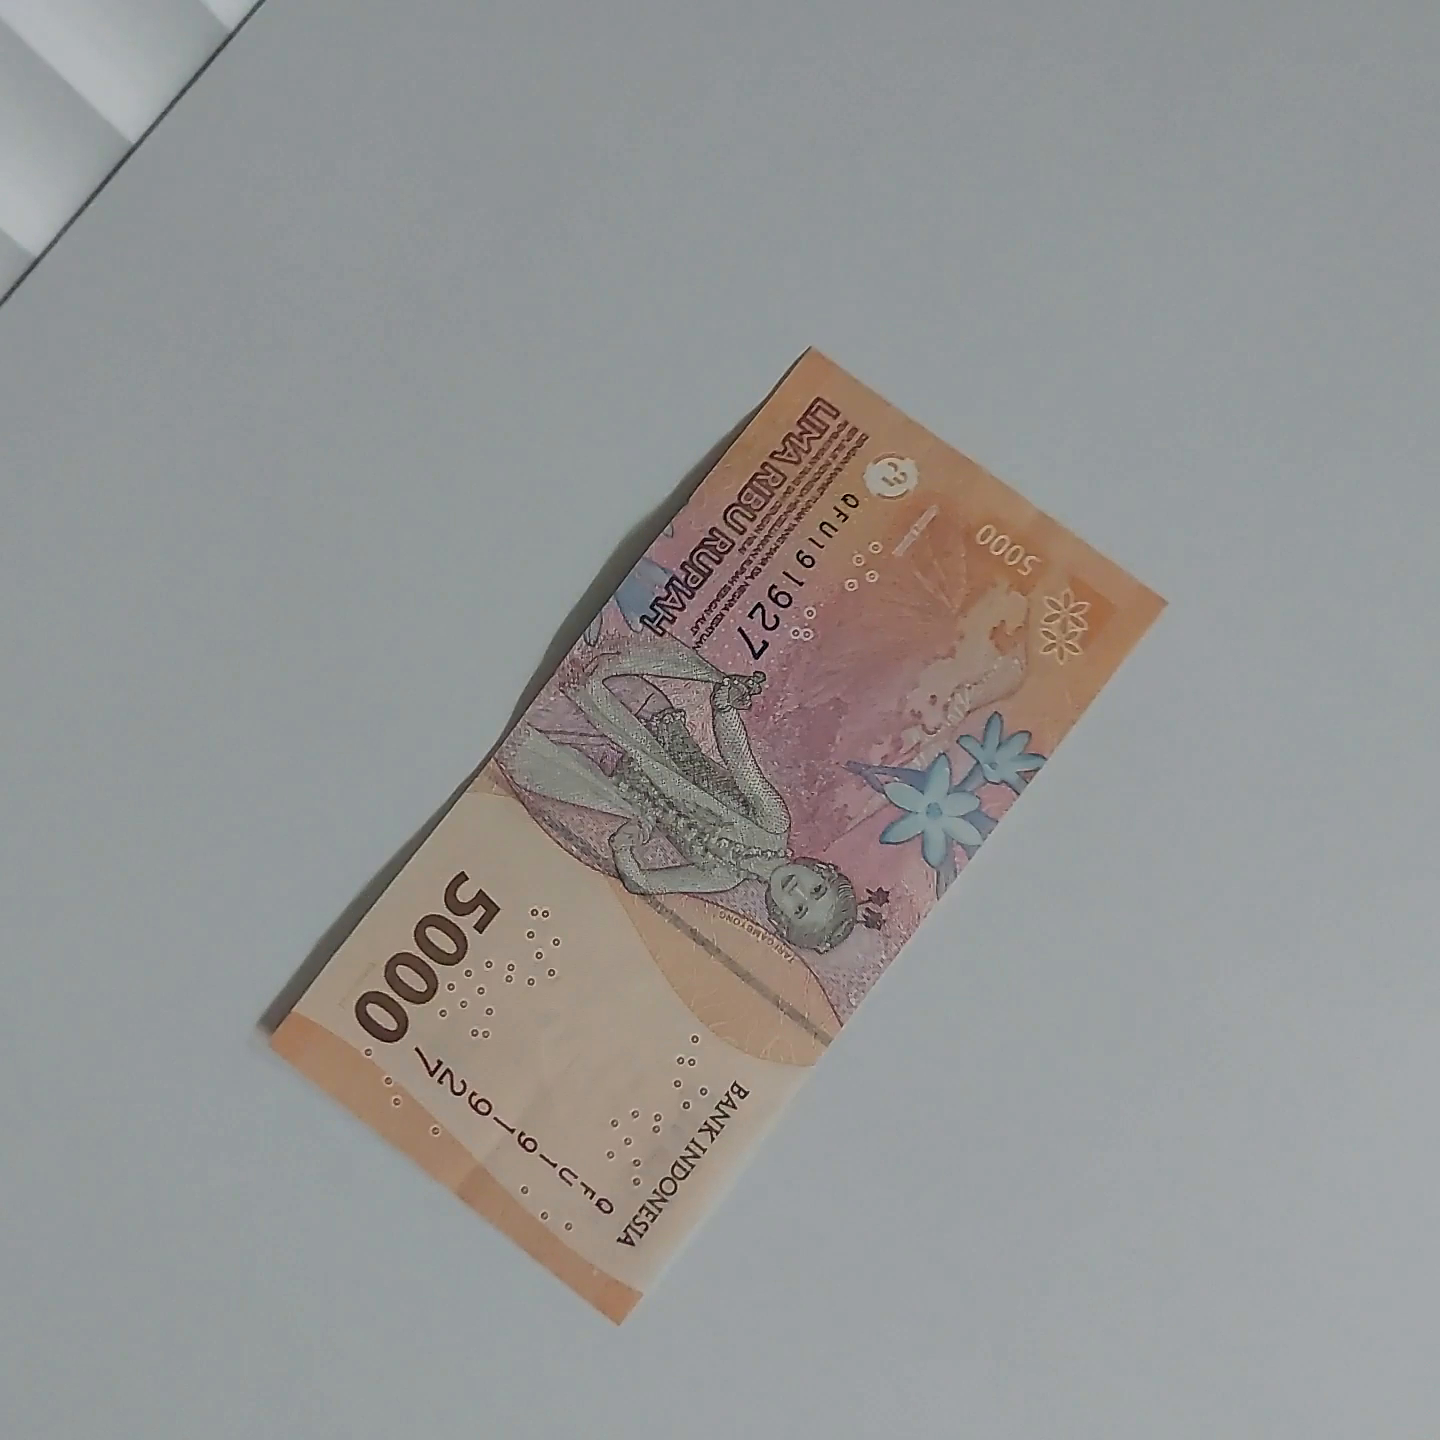5k: (783, 320, 1270, 1207)
